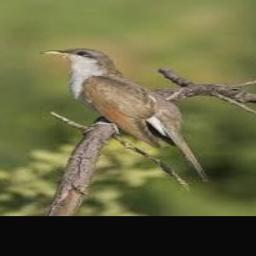Cuckoo: (40, 47, 210, 180)
